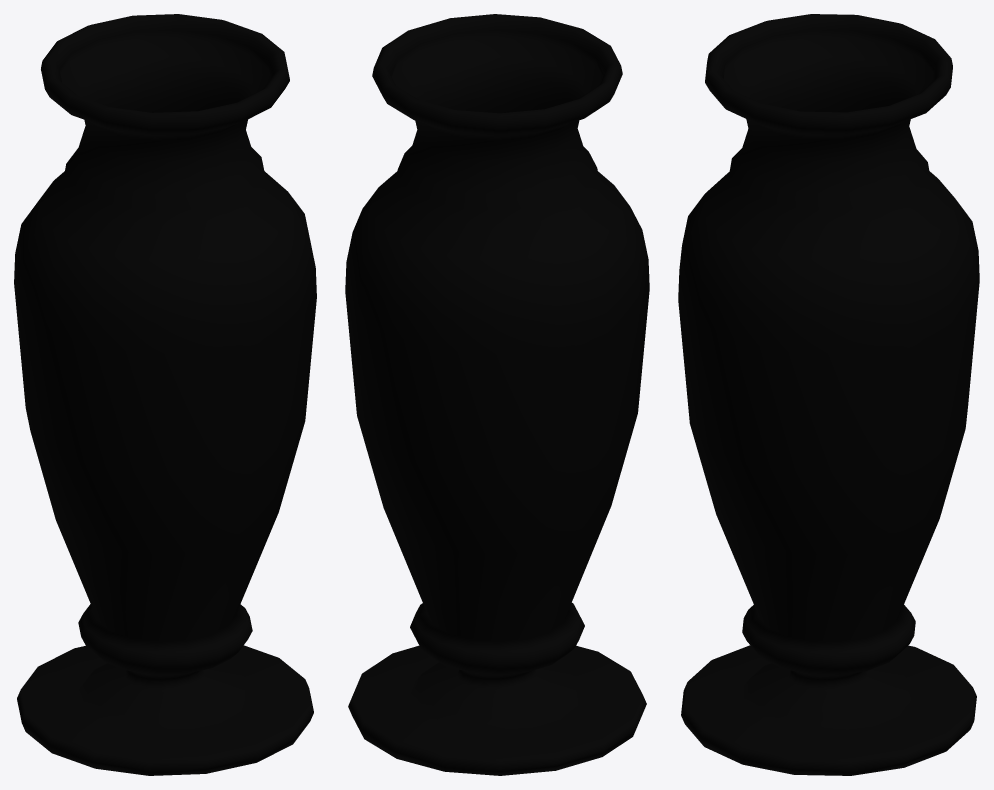
File: Vase3.fbx
The picture shows the model from 3 angles, left to right: view 1: azimuth 30°, elevation 25°; view 2: azimuth 150°, elevation 25°; view 3: azimuth 270°, elevation 25°; orthographic projection.
Parts seen in each view (by area): view 1: Vase; view 2: Vase; view 3: Vase.
Part boxes in pixels (x1,y1,x2,y2): Vase: [14, 14, 316, 775]; Vase: [345, 14, 649, 775]; Vase: [678, 14, 979, 775].
Bounding box in the file's own units: 23.12 × 55.14 × 23.12.
